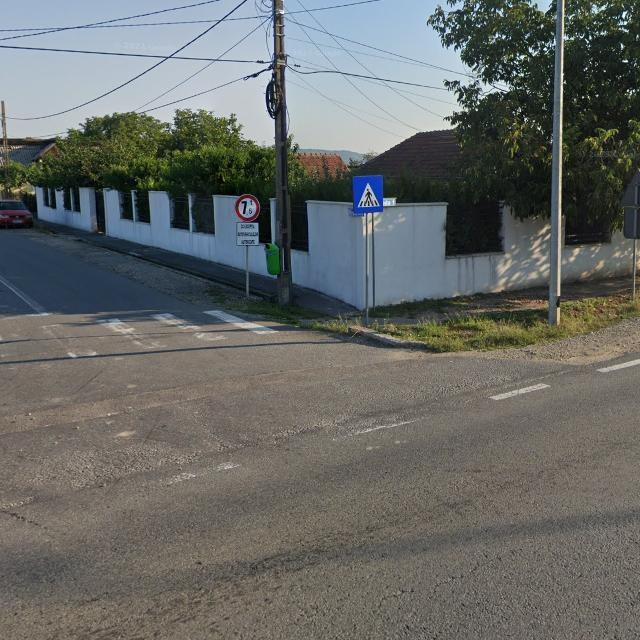info_crosswalk: (353, 176, 384, 213)
